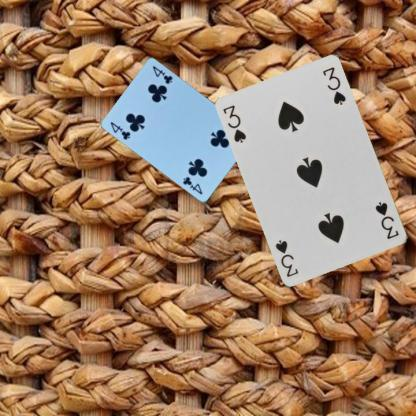3s: (220, 102, 248, 144), (373, 199, 400, 241)
4c: (108, 119, 132, 141)
